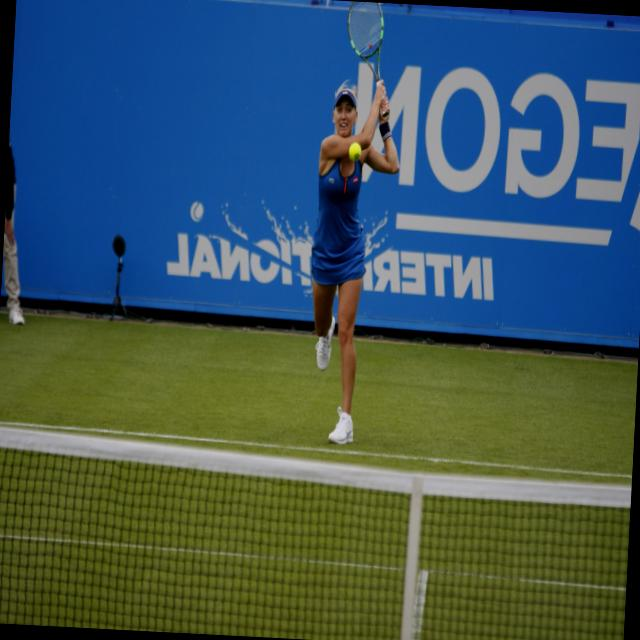Tennis Ball: (348, 140, 361, 163), (348, 143, 362, 162)
